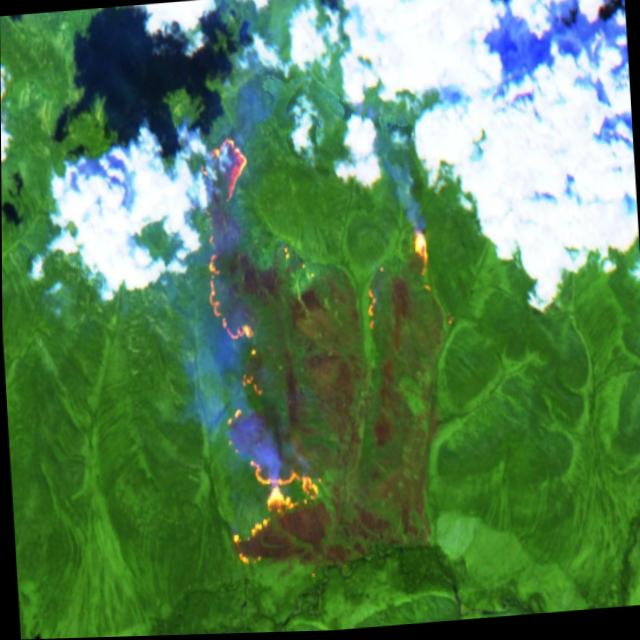fire: (188, 120, 322, 510), (218, 462, 340, 582), (359, 223, 451, 360)
